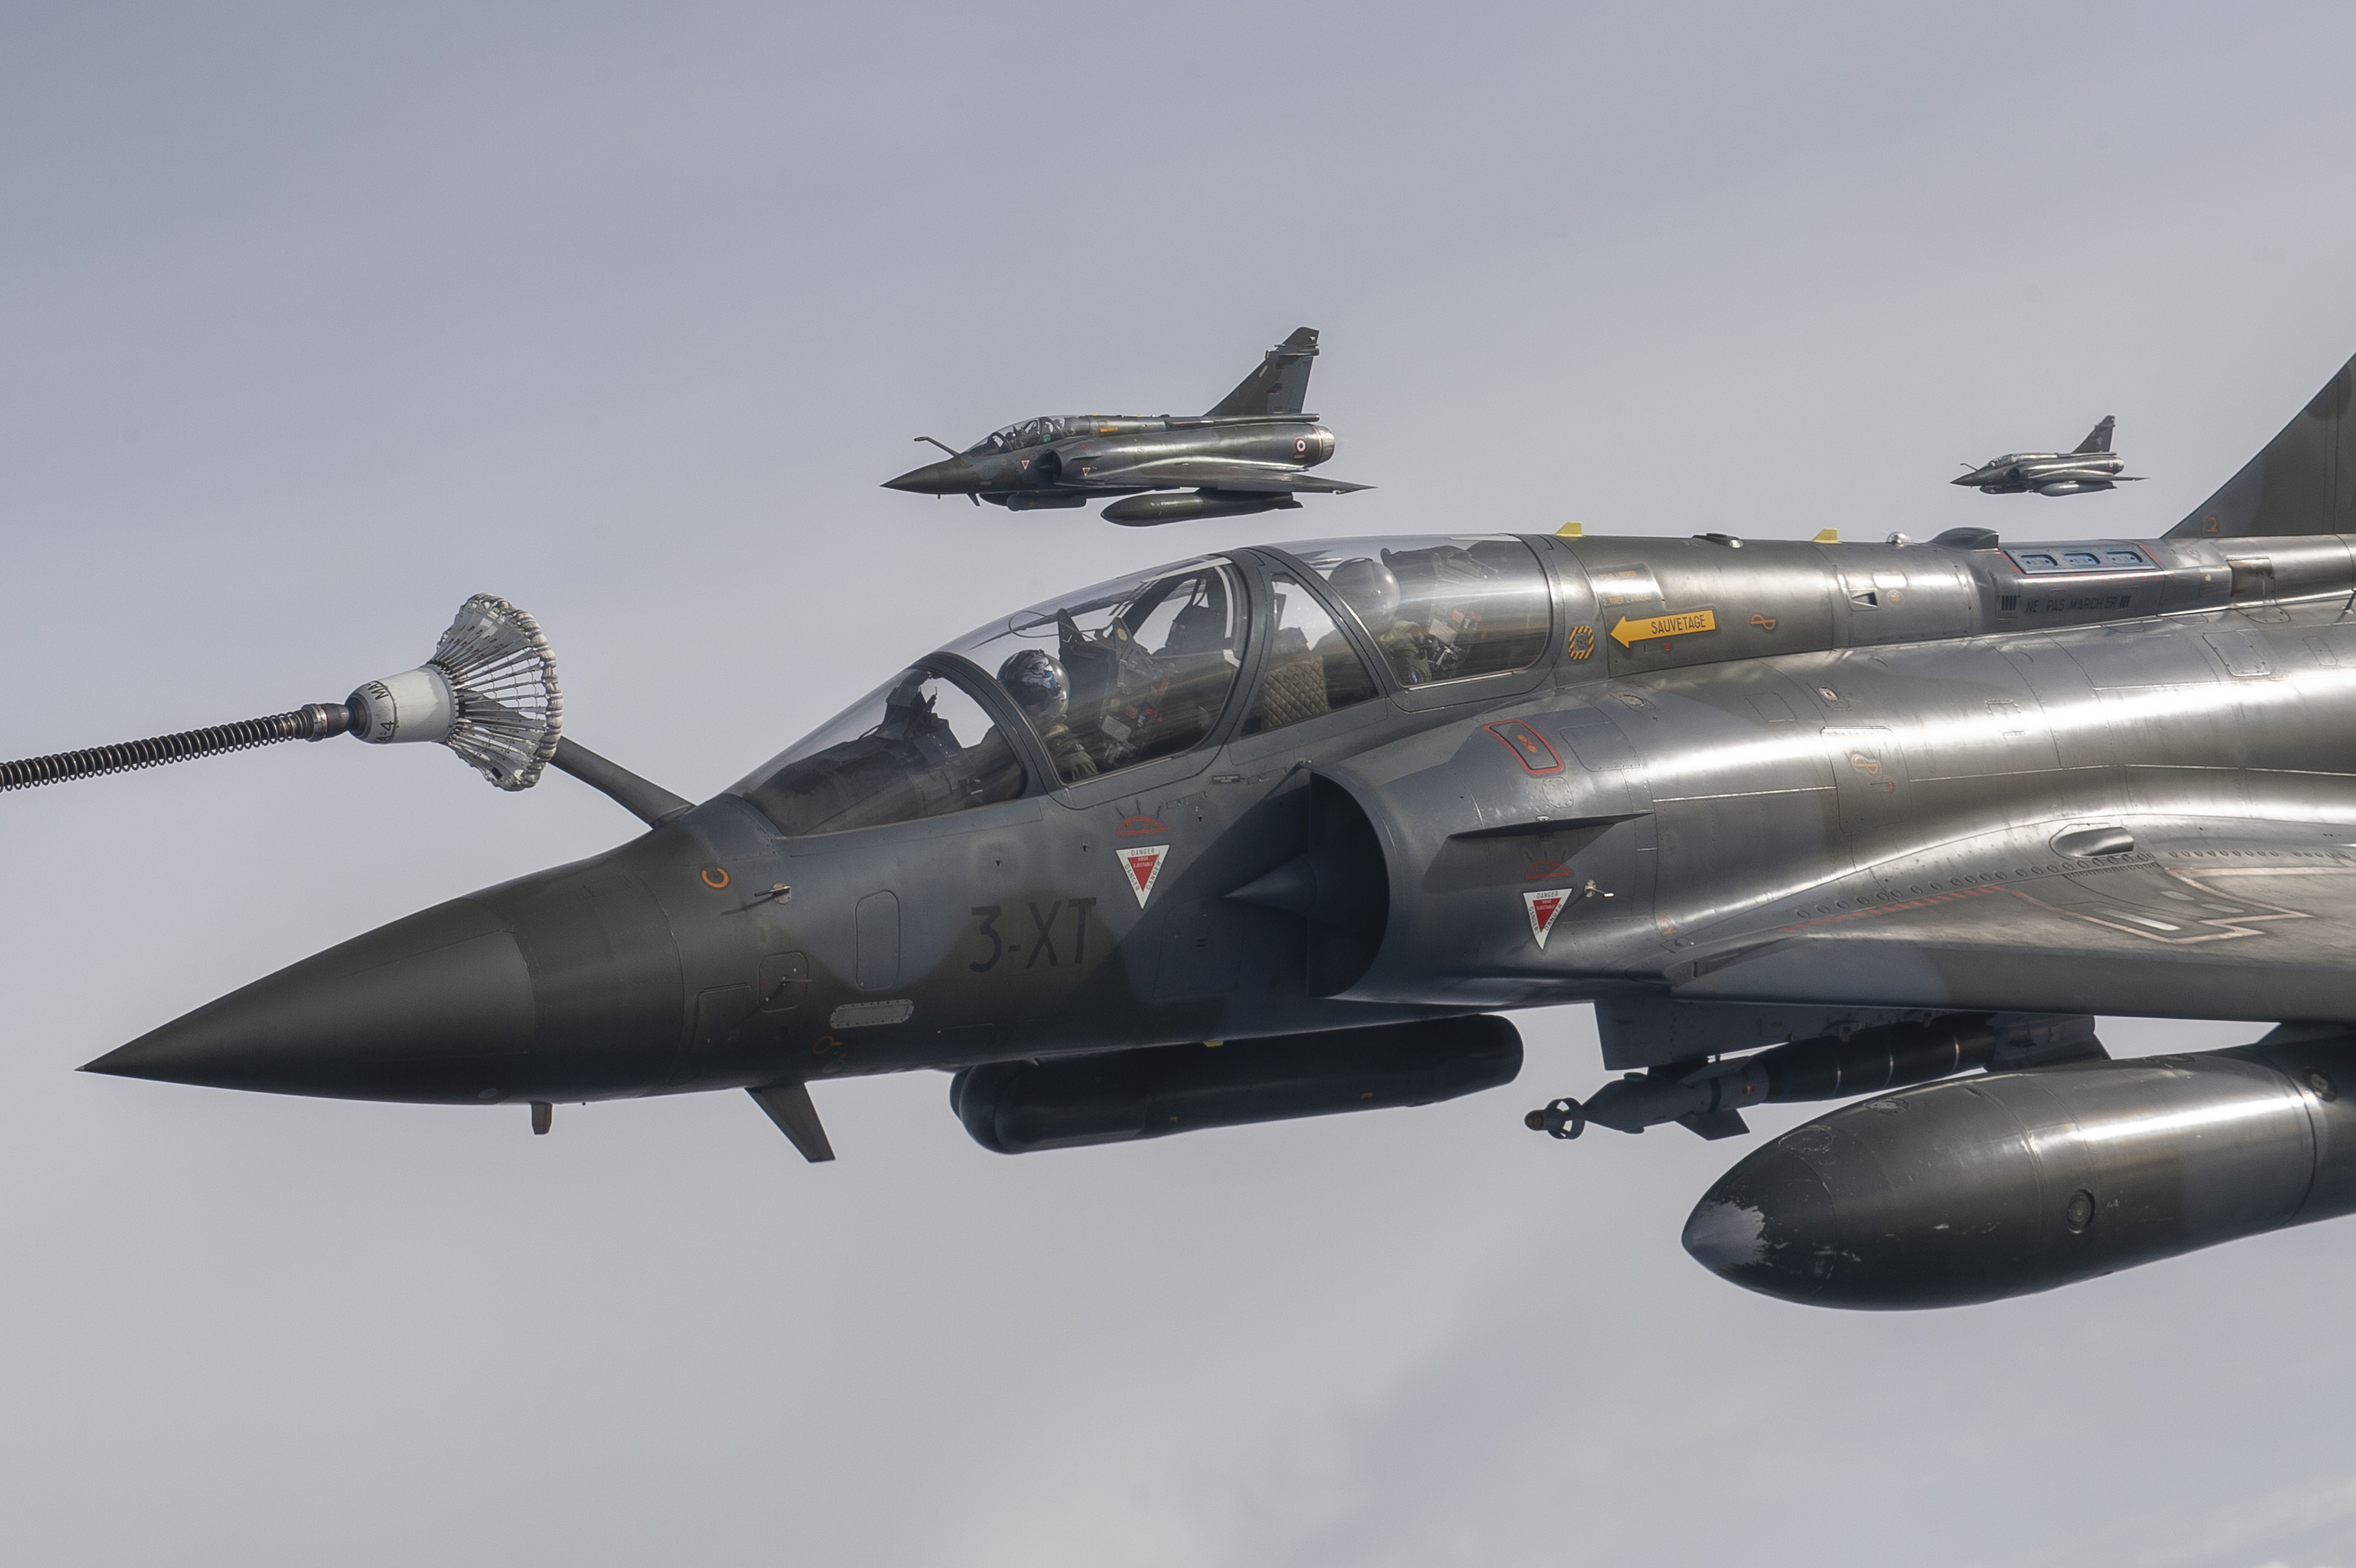Mirage2000: (73, 352, 2356, 1312), (878, 325, 1378, 527), (1948, 415, 2151, 497)
